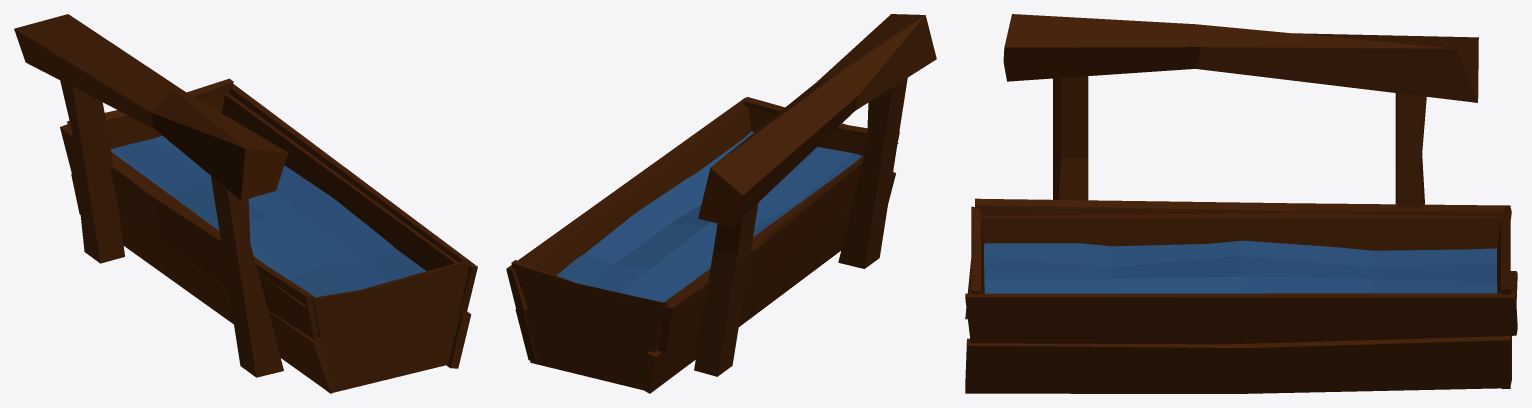
The model's file is Wood Water Trough.glb.
The picture shows the model from 3 angles, left to right: view 1: azimuth 30°, elevation 25°; view 2: azimuth 150°, elevation 25°; view 3: azimuth 270°, elevation 25°; orthographic projection. The views are drawn at different scales.
Parts seen in each view (by area): view 1: wood_water_trough_Cube; view 2: wood_water_trough_Cube; view 3: wood_water_trough_Cube.
Boxes of the visible parts, x1=… form: wood_water_trough_Cube: x1=14, y1=14, x2=477, y2=393; wood_water_trough_Cube: x1=506, y1=14, x2=936, y2=393; wood_water_trough_Cube: x1=965, y1=14, x2=1517, y2=393.
Size of the model in its own units: 2.22 by 2.29 by 4.14.
